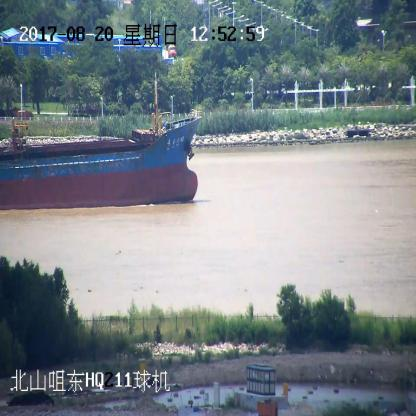Bulk Carrier: (0, 114, 204, 210)
